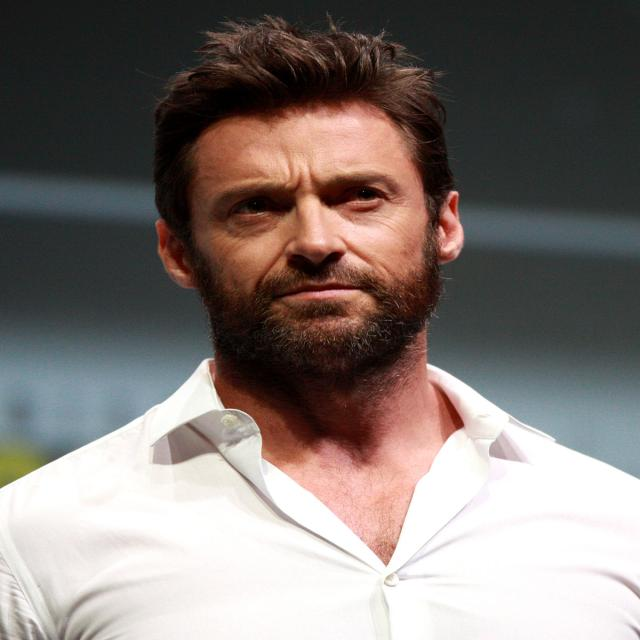human: (3, 20, 639, 640)
